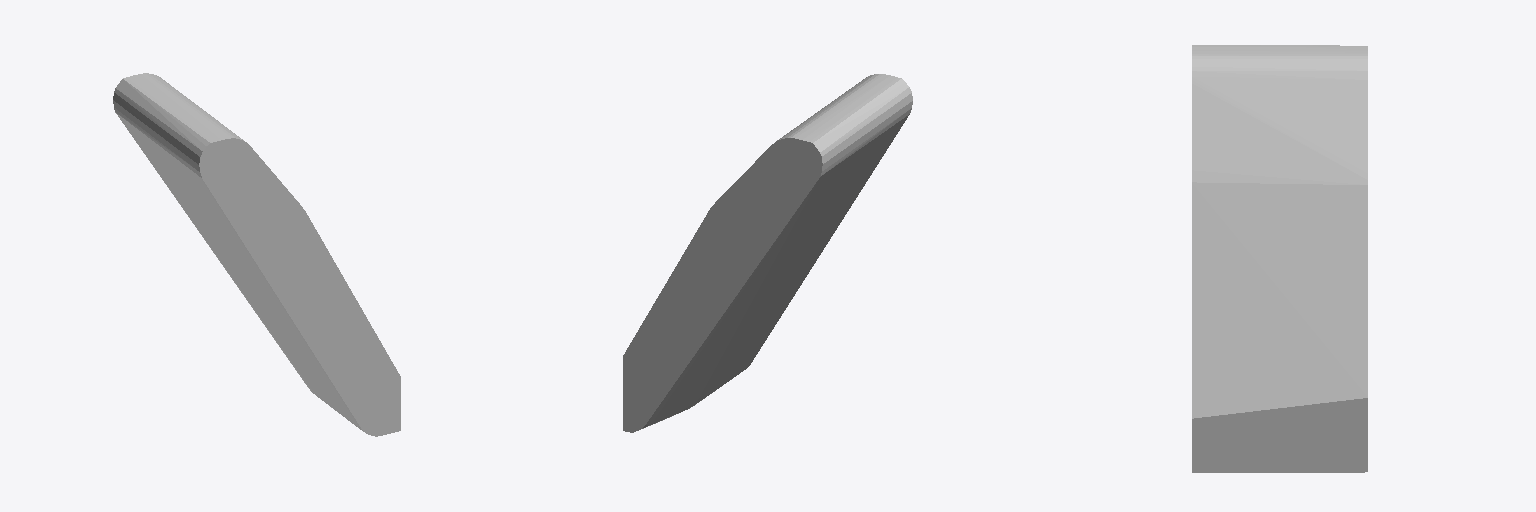
Rendered from Bowl_21_collision_0.obj.
The picture shows the model from 3 angles: view 1: azimuth 30°, elevation 25°; view 2: azimuth 150°, elevation 25°; view 3: azimuth 270°, elevation 25°; orthographic projection.
Size of the model in its own units: 0.0686 by 0.1087 by 0.052.